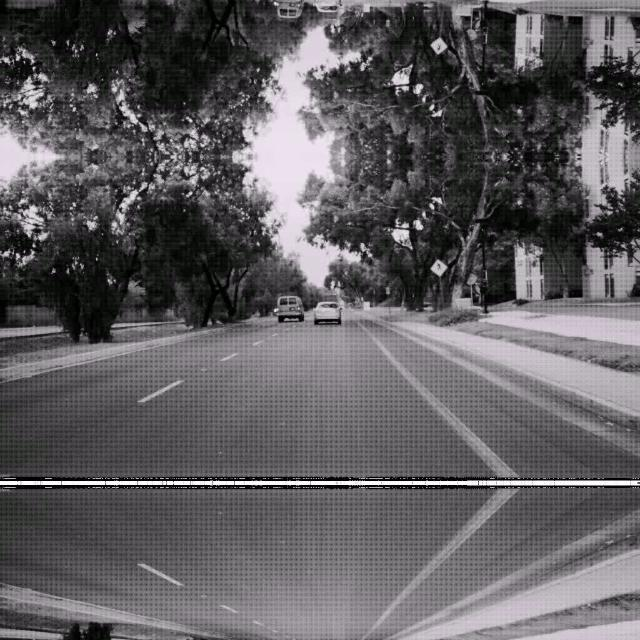pedestrianCrossing: (429, 257, 447, 275), (429, 37, 447, 55)
